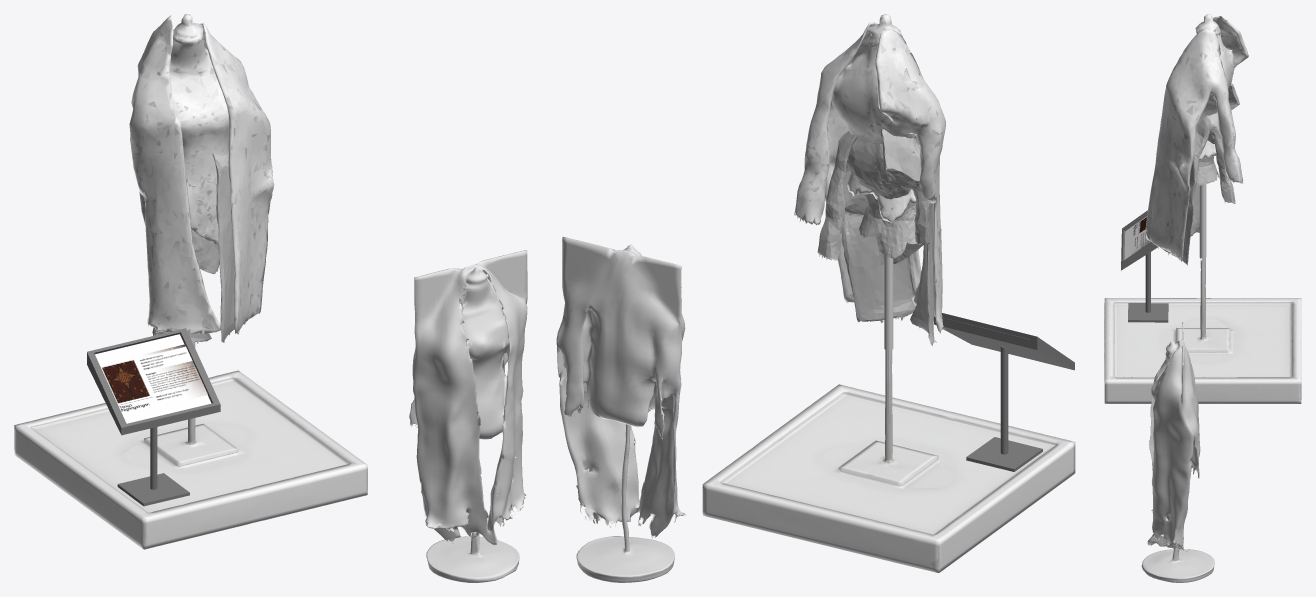
The model's file is Gringsing fiks.fbx.
3 views of the same model, side by side, from view 1: azimuth 30°, elevation 25°; view 2: azimuth 150°, elevation 25°; view 3: azimuth 270°, elevation 25° (orthographic). The views are drawn at different scales.
Visible parts, largest first — view 1: Mesh_0, Mesh_0.001, Mesh1, Cube.090, Plane, Elegant_Purple_Shawl__0701114105_texture; view 2: Mesh_0, Mesh1, Mesh_0.001, Elegant_Purple_Shawl__0701114105_texture, Cube.090, Cylinder; view 3: Mesh_0, Mesh_0.001, Mesh1, Elegant_Purple_Shawl__0701114105_texture, Cube.090, Cylinder, Plane.
Boxes of the visible parts, left/top/right/bottom form: Mesh_0: left=14, top=342, right=367, bottom=549; Mesh_0.001: left=129, top=14, right=274, bottom=335; Mesh1: left=409, top=250, right=527, bottom=582; Cube.090: left=87, top=328, right=220, bottom=506; Plane: left=100, top=344, right=207, bottom=414; Elegant_Purple_Shawl__0701114105_texture: left=139, top=149, right=234, bottom=343; Mesh_0: left=702, top=350, right=1075, bottom=572; Mesh1: left=556, top=236, right=686, bottom=582; Mesh_0.001: left=794, top=14, right=945, bottom=333; Elegant_Purple_Shawl__0701114105_texture: left=817, top=128, right=936, bottom=345; Cube.090: left=934, top=313, right=1074, bottom=471; Cylinder: left=884, top=248, right=893, bottom=350; Mesh_0: left=1104, top=258, right=1301, bottom=403; Mesh_0.001: left=1145, top=14, right=1248, bottom=261; Mesh1: left=1141, top=322, right=1214, bottom=582; Elegant_Purple_Shawl__0701114105_texture: left=1160, top=83, right=1239, bottom=265; Cube.090: left=1121, top=210, right=1168, bottom=322; Cylinder: left=1199, top=183, right=1206, bottom=258; Plane: left=1131, top=216, right=1150, bottom=255.
Size of the model in its own units: 310 by 398 by 156.
